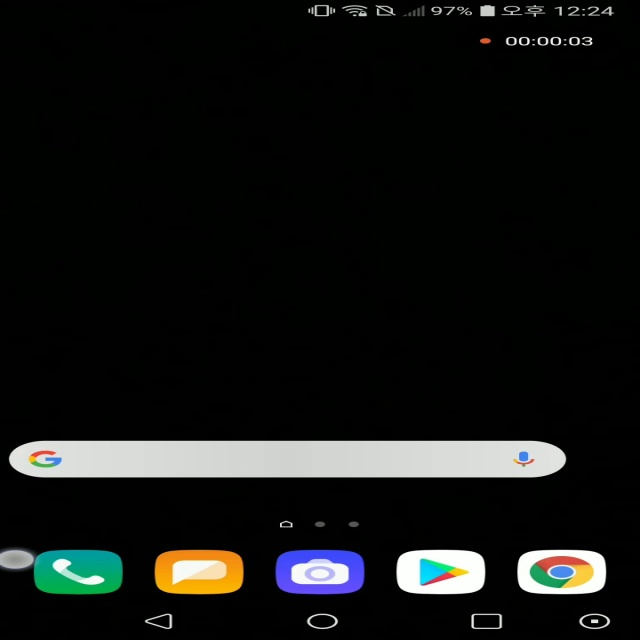Cursor: (1, 549, 40, 571)
